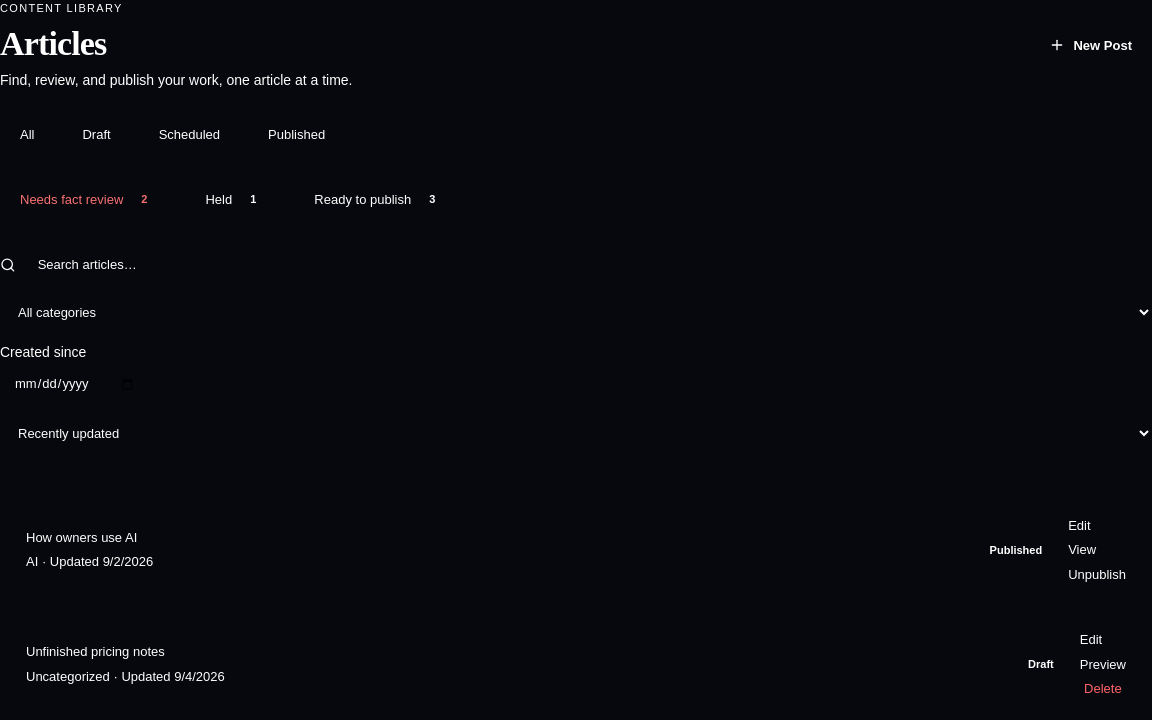
articles list row actions › clears the typed confirmation when a different draft is opened
Click the button "Delete".
click(1103, 689)  # box left=1080, top=679, right=1126, bottom=699
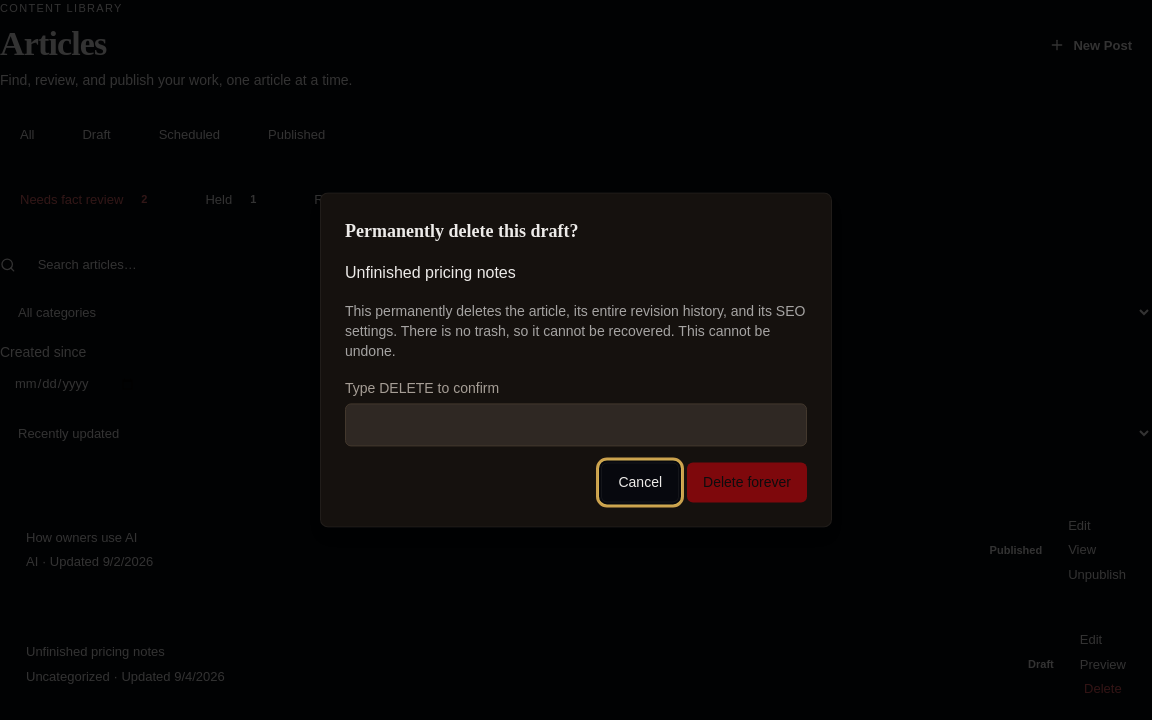
Type "DELETE" into the field labelled "Type DELETE to confirm".
click(576, 425); type("DELETE")  # box left=345, top=404, right=807, bottom=447
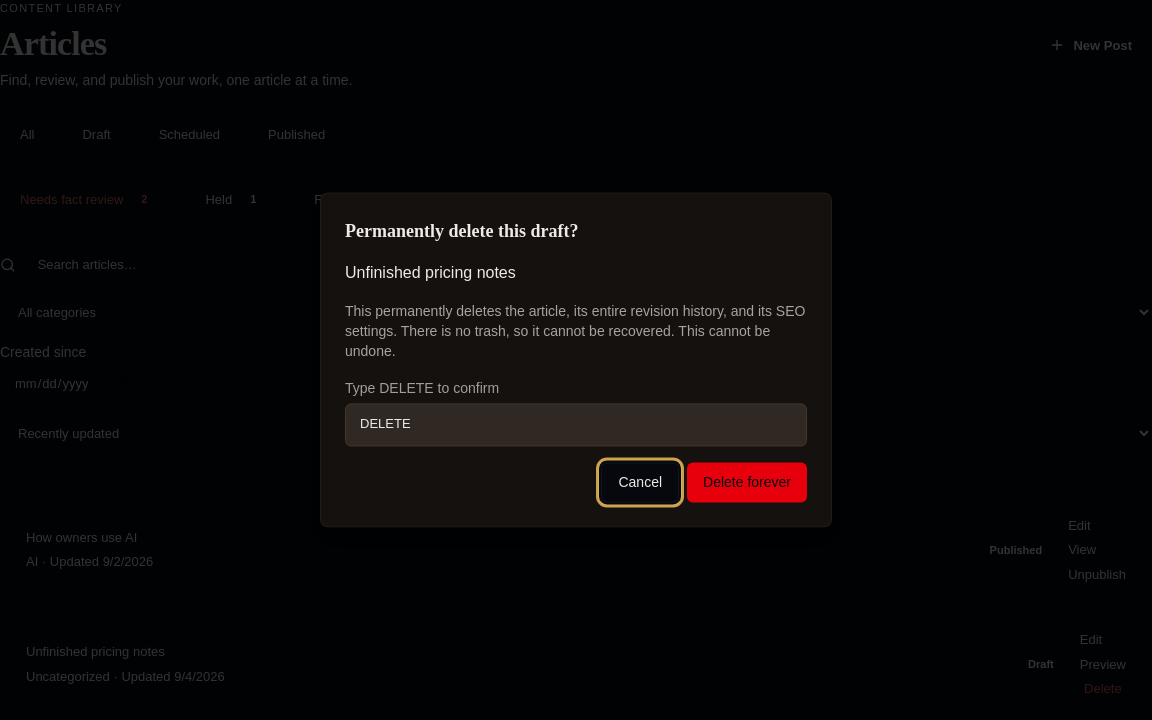
Click the button "Cancel".
click(640, 483)  # box left=602, top=463, right=679, bottom=503
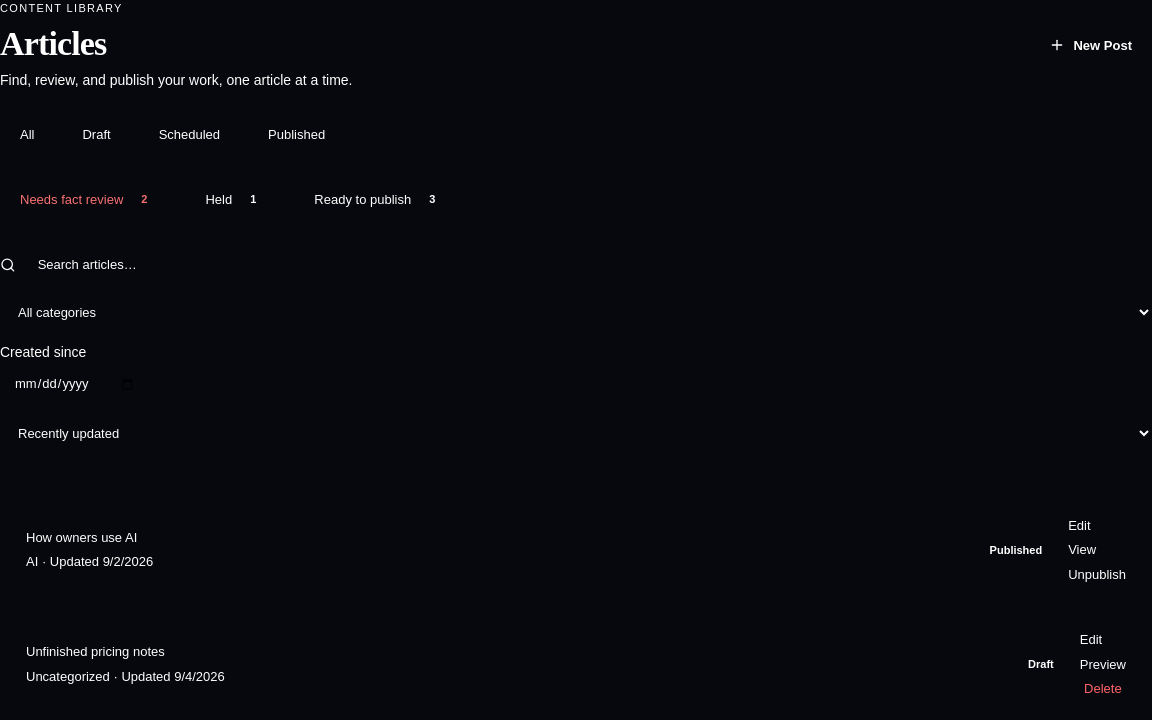
Expected: the dialog is gone
Click the button "Delete".
click(1103, 689)  # box left=1080, top=679, right=1126, bottom=699
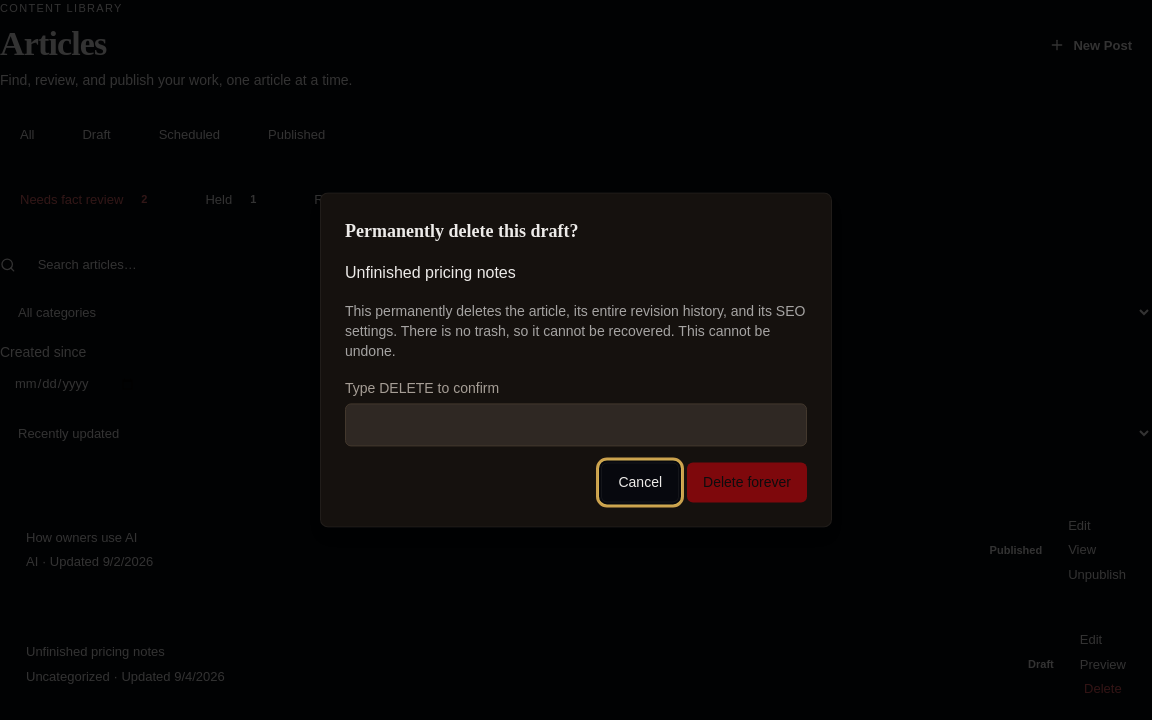
Expected: the button "Delete forever" is disabled, left=687, top=463, right=807, bottom=503
